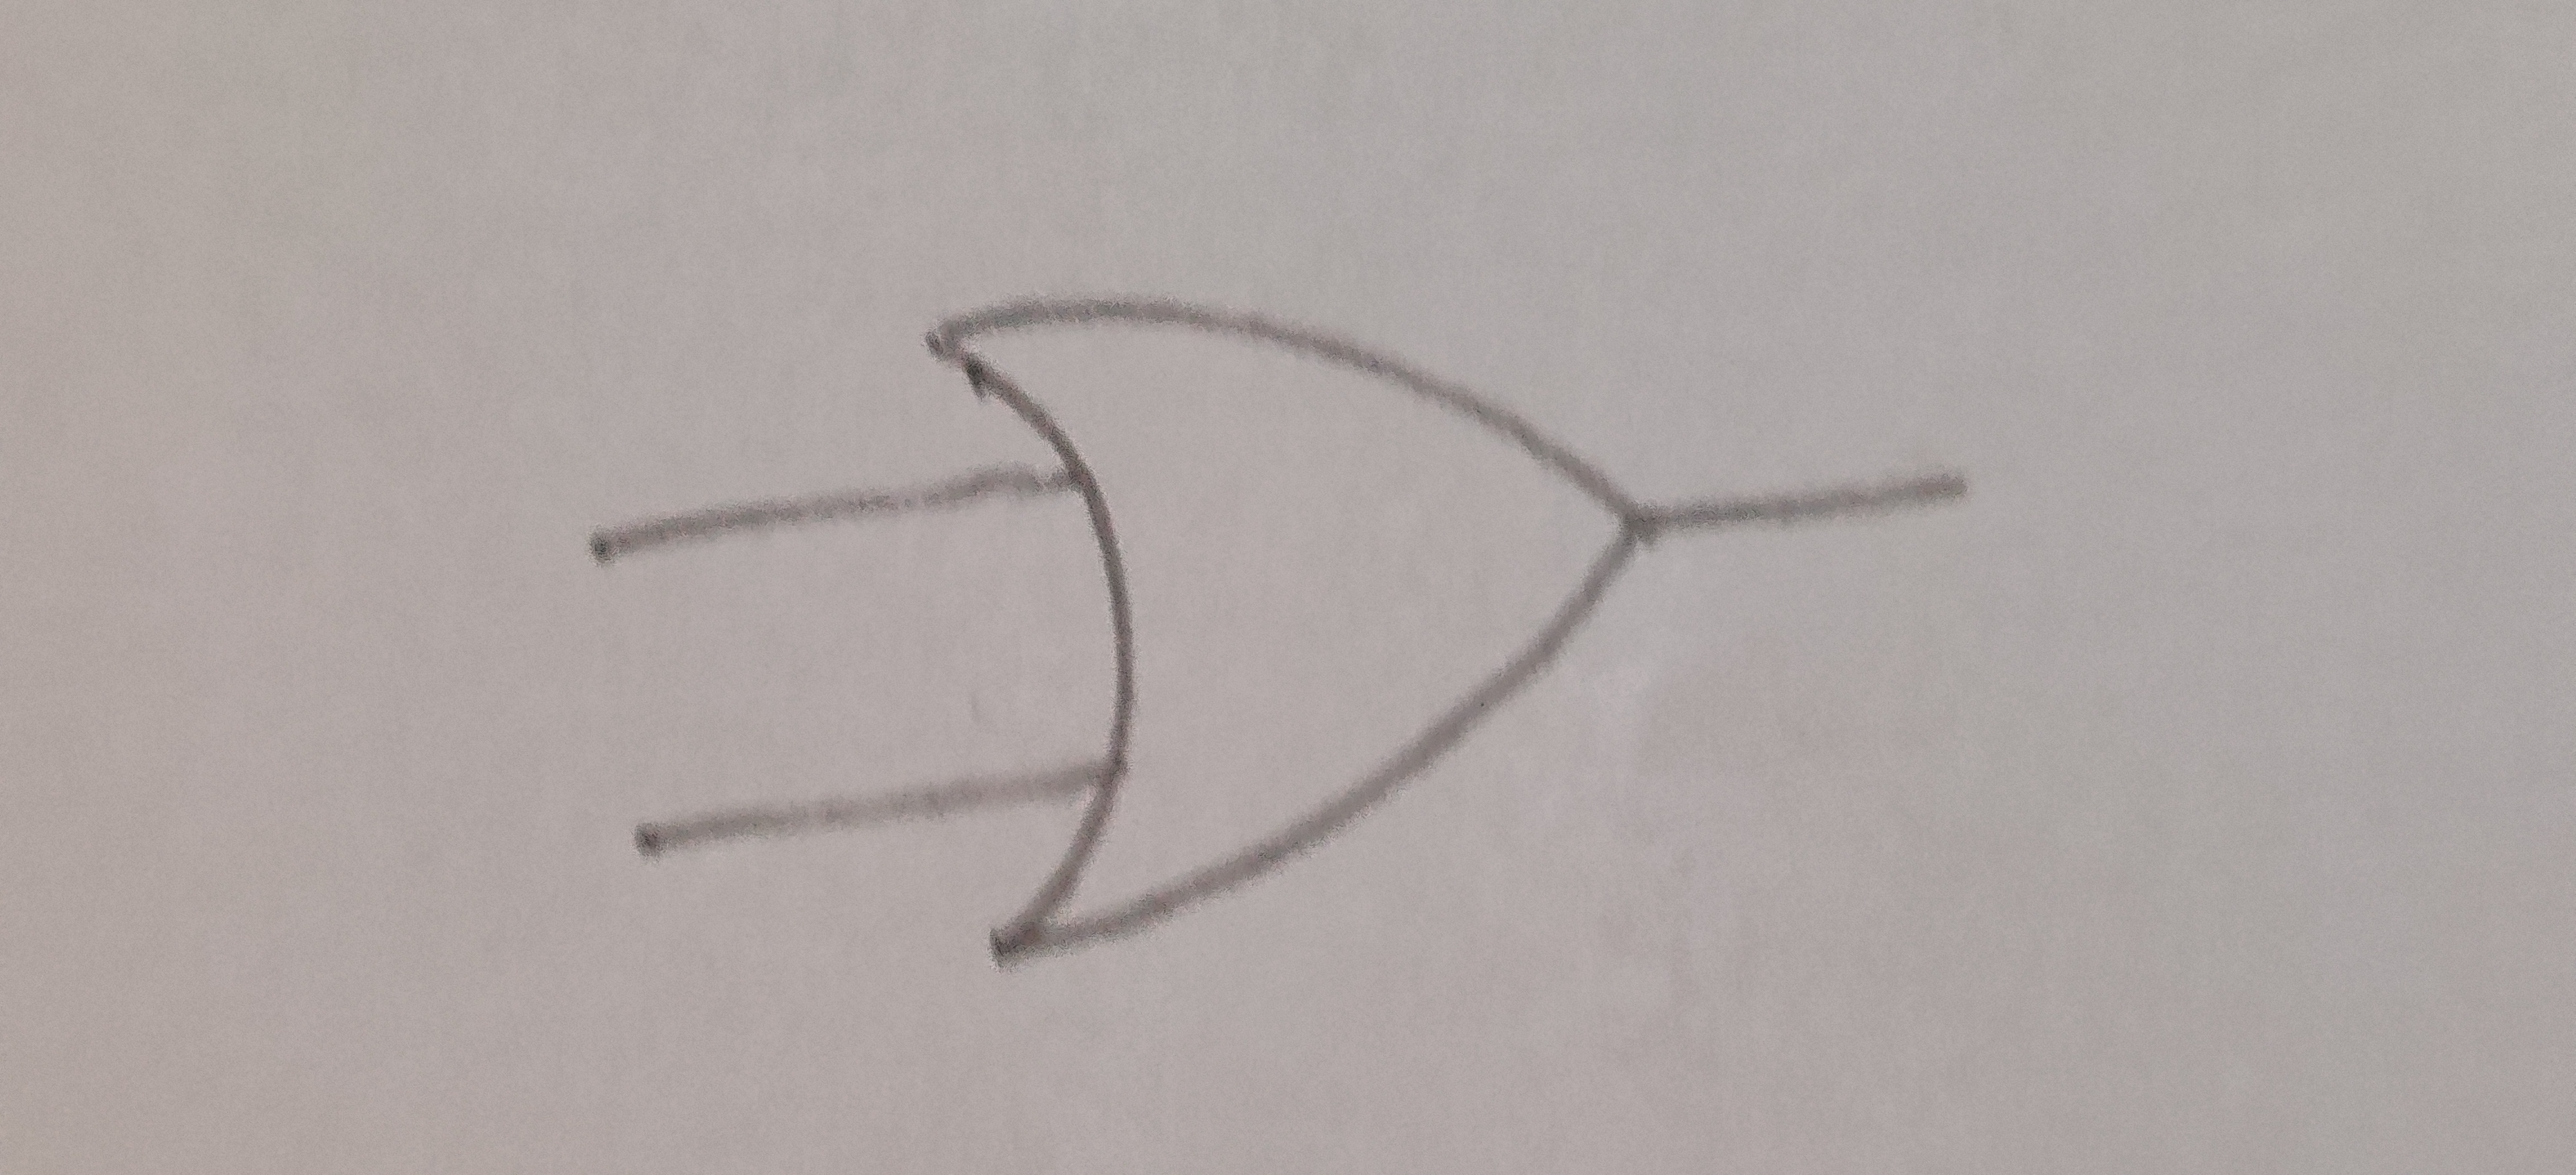or: (928, 302, 1649, 956)
